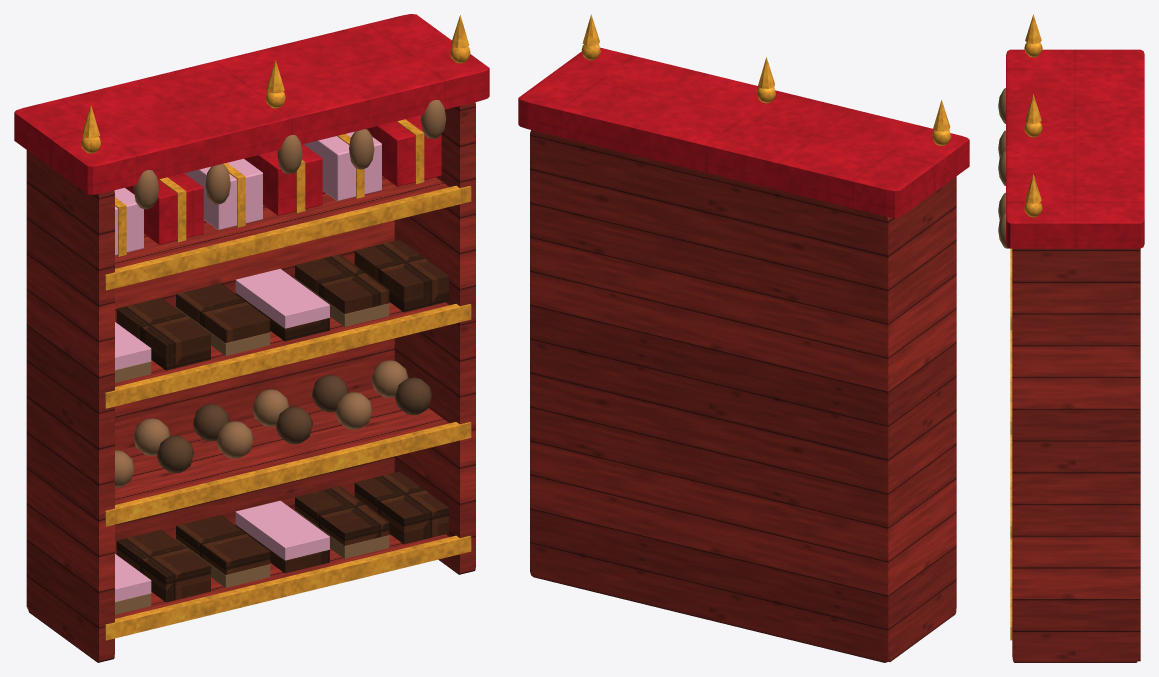
Rendered from CHO_ChocoShelf.fbx.
The picture shows the model from 3 angles, left to right: view 1: azimuth 30°, elevation 25°; view 2: azimuth 150°, elevation 25°; view 3: azimuth 270°, elevation 25°; orthographic projection. The views are drawn at different scales.
Visible parts, largest first — view 1: CHO_ChocoShelf; view 2: CHO_ChocoShelf; view 3: CHO_ChocoShelf.
Part boxes in pixels (bbox=[...]): CHO_ChocoShelf: bbox=[14, 14, 489, 662]; CHO_ChocoShelf: bbox=[518, 14, 969, 662]; CHO_ChocoShelf: bbox=[998, 14, 1144, 662].
Bounding box in the file's own units: 1.96 × 2.56 × 0.698.
